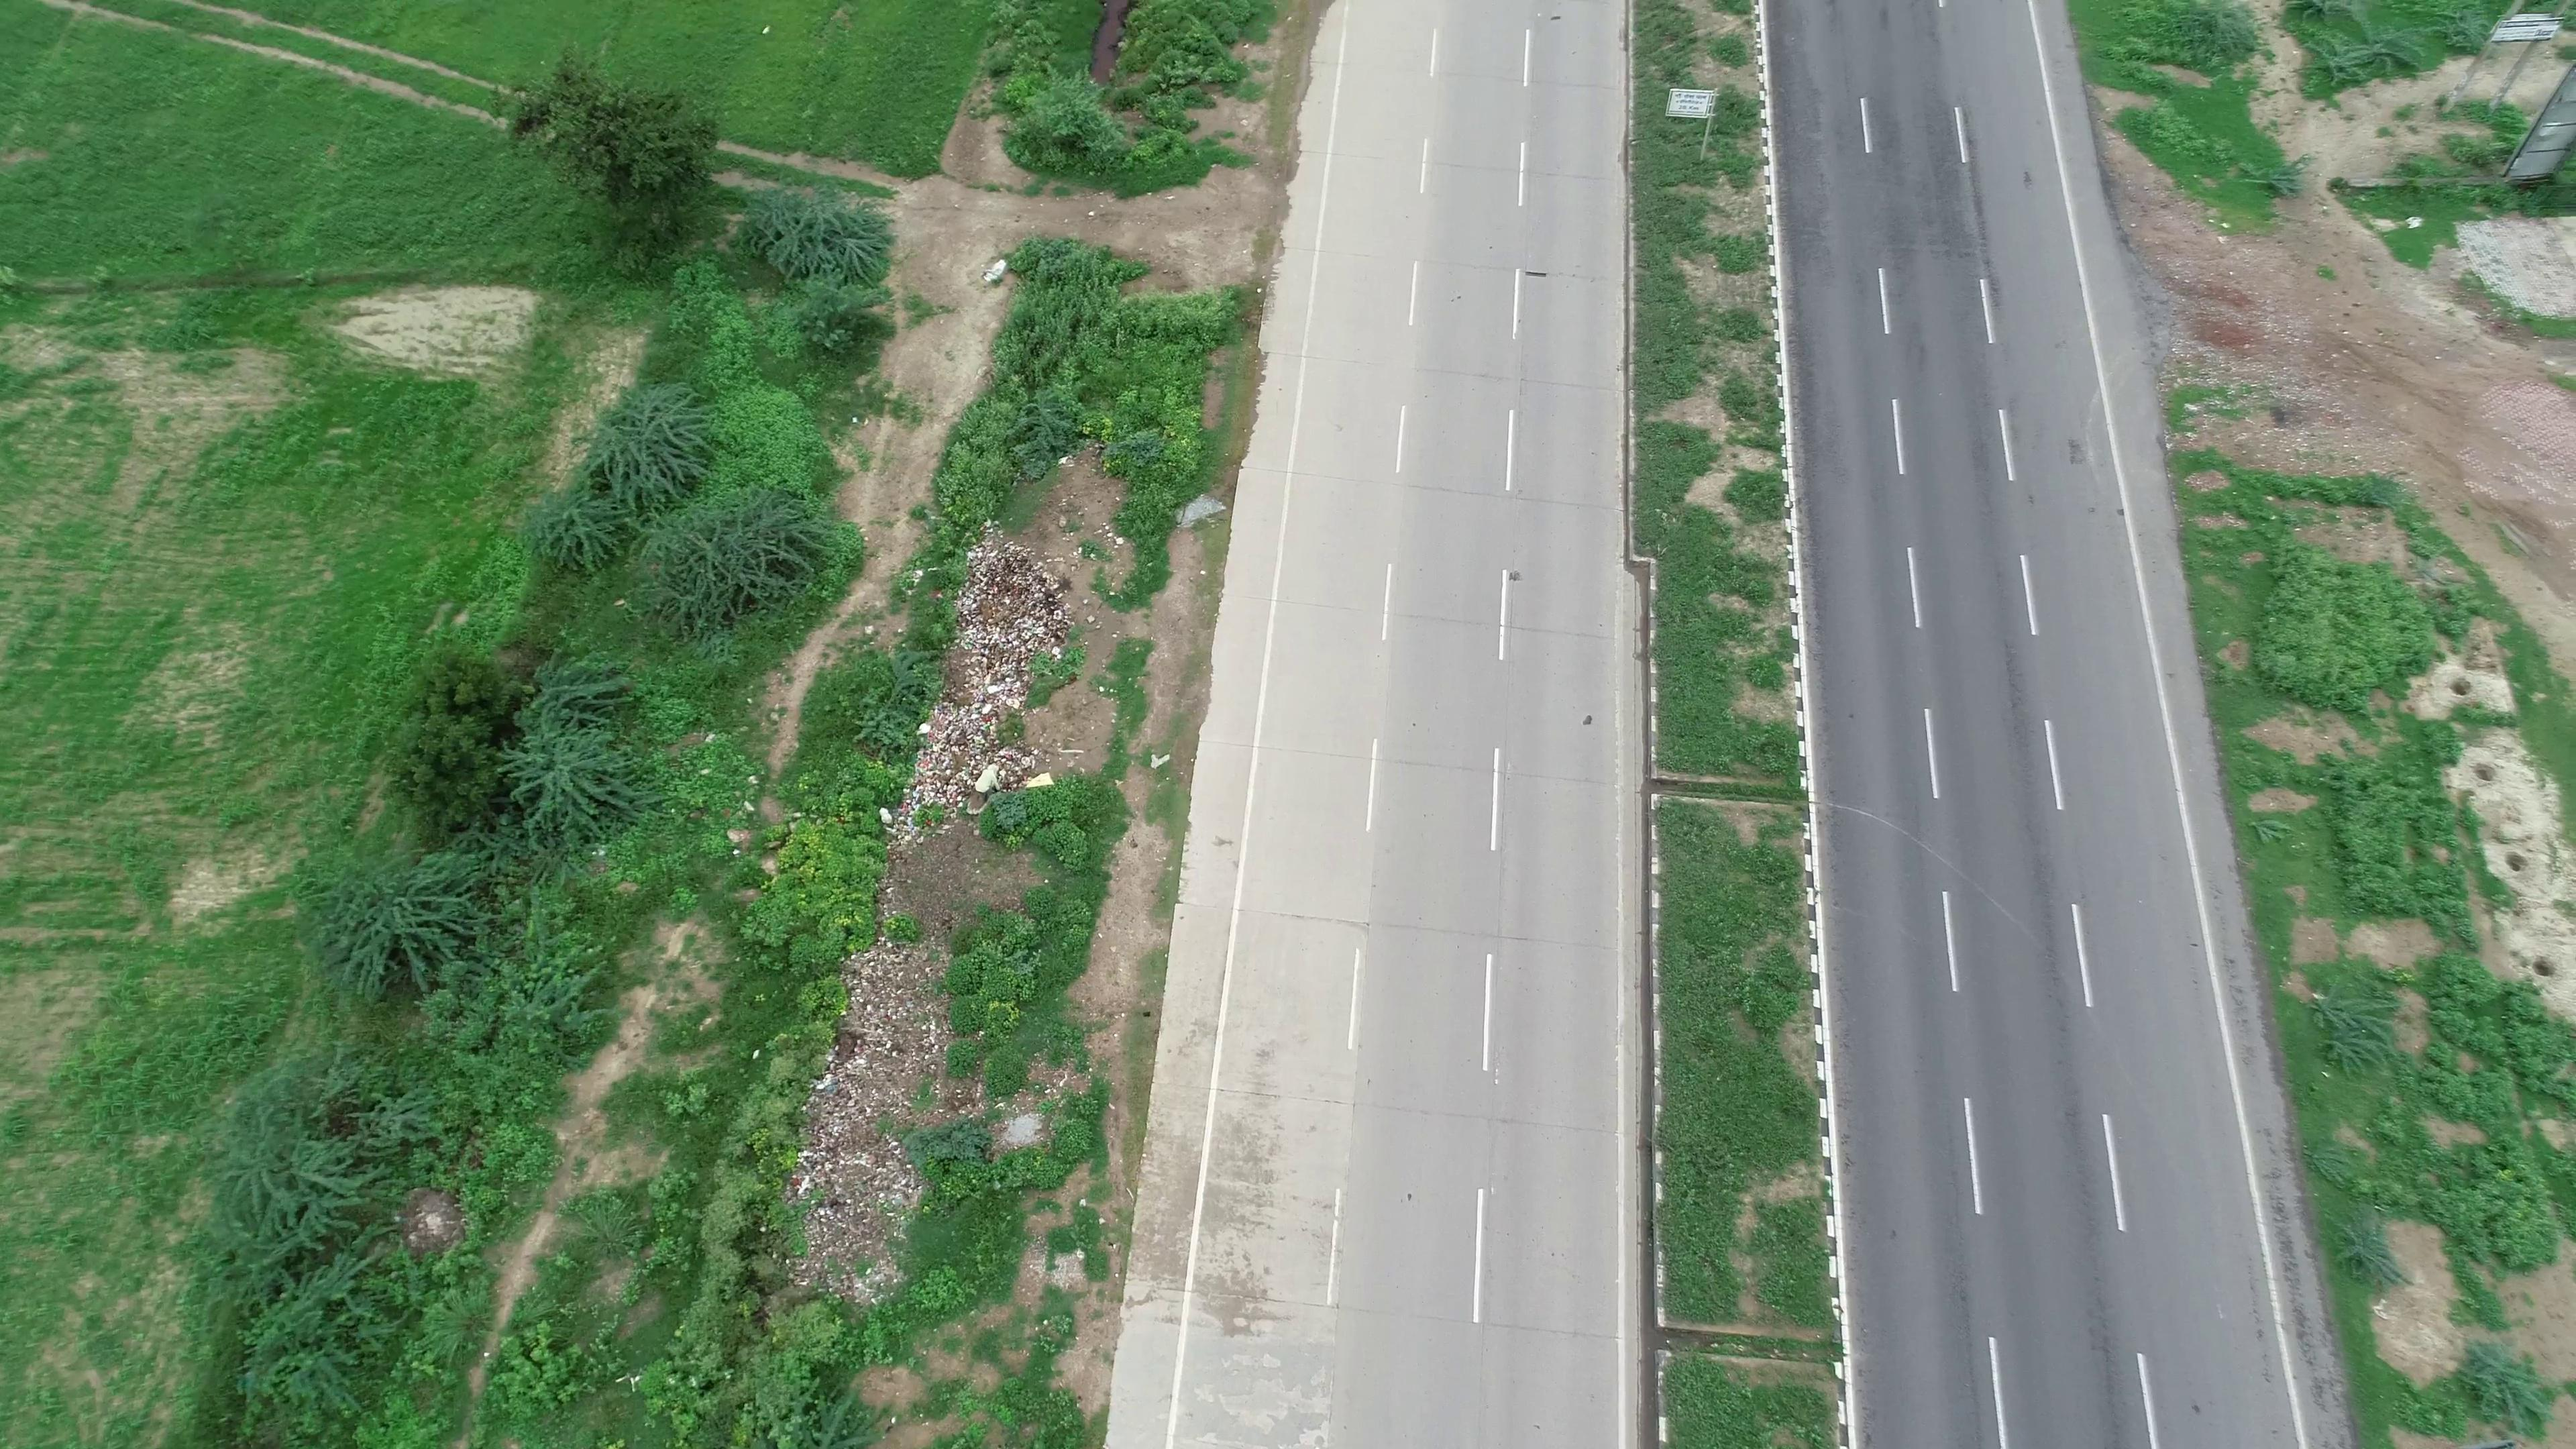Road_side_garbage: (895, 508, 1088, 840)
